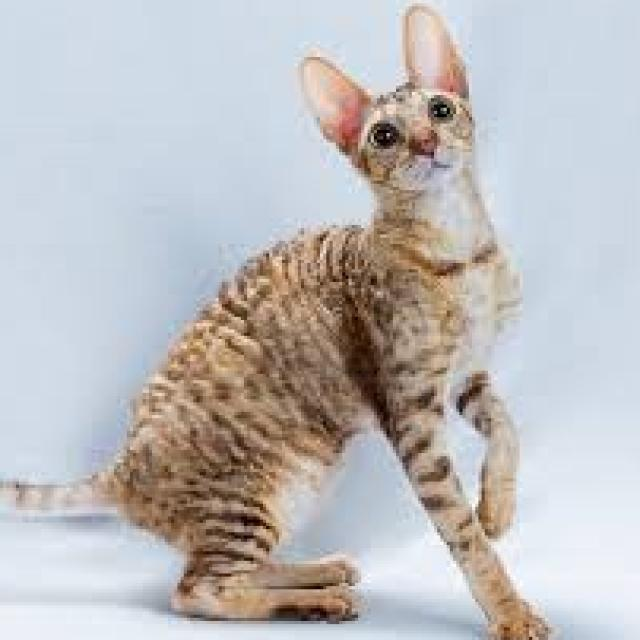Cornish Rex: (0, 0, 561, 640)
